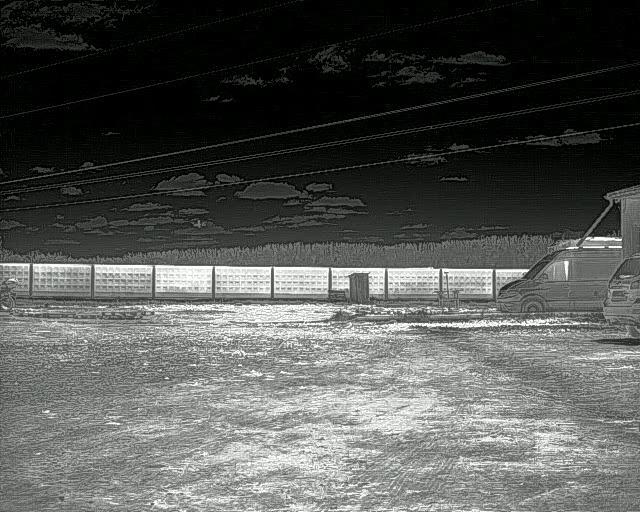drone-thermal: (189, 219, 208, 229)
